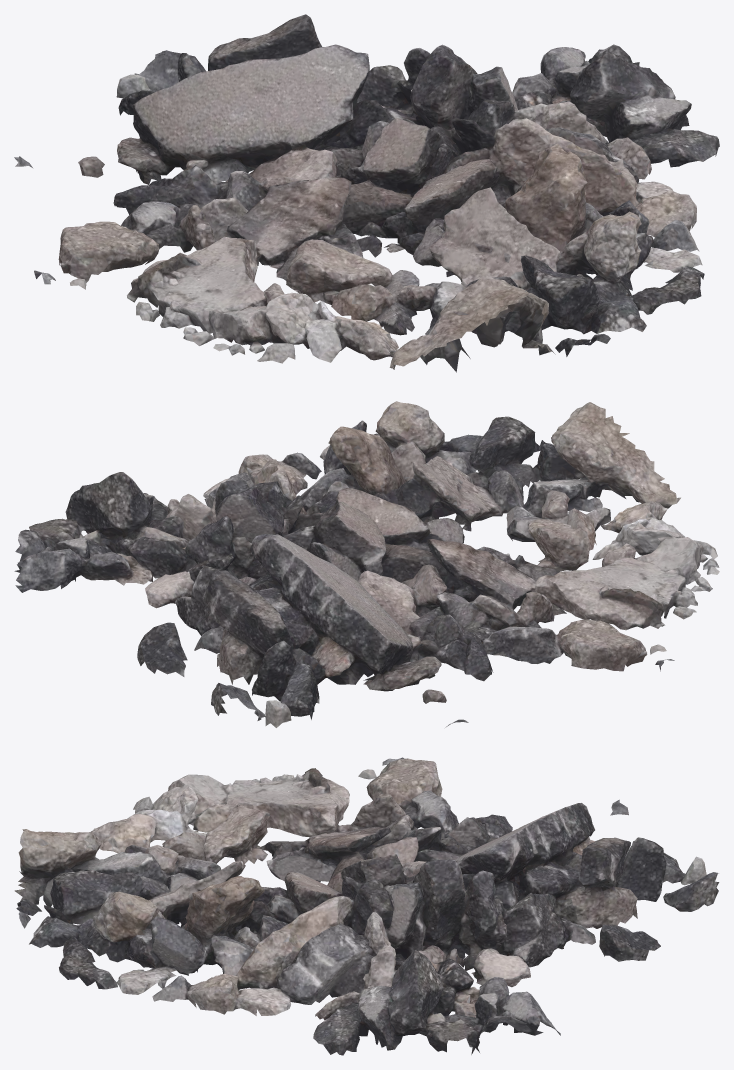
File: broken-asphalt-pile.glb
3 renders of one model, top to bottom at view 1: azimuth 30°, elevation 25°; view 2: azimuth 150°, elevation 25°; view 3: azimuth 270°, elevation 25°, orthographic. The views are drawn at different scales.
Parts seen in each view (by area): view 1: asphi_asphi_u1_v1_0; view 2: asphi_asphi_u1_v1_0; view 3: asphi_asphi_u1_v1_0.
Boxes of the visible parts, <box> form: asphi_asphi_u1_v1_0: <box>14,14,719,372</box>; asphi_asphi_u1_v1_0: <box>14,401,719,727</box>; asphi_asphi_u1_v1_0: <box>14,757,719,1055</box>.
Size of the model in its own units: 1.69 by 0.2936 by 1.72.
1 material, 1 textured.
